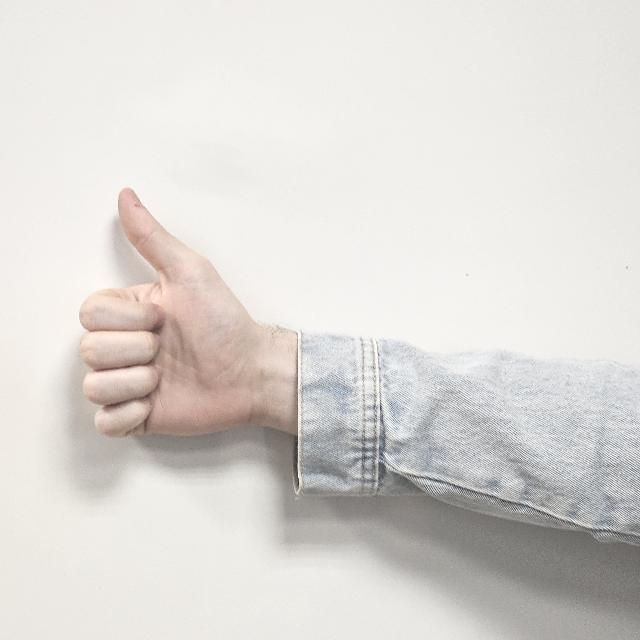Start: (84, 188, 264, 490)
